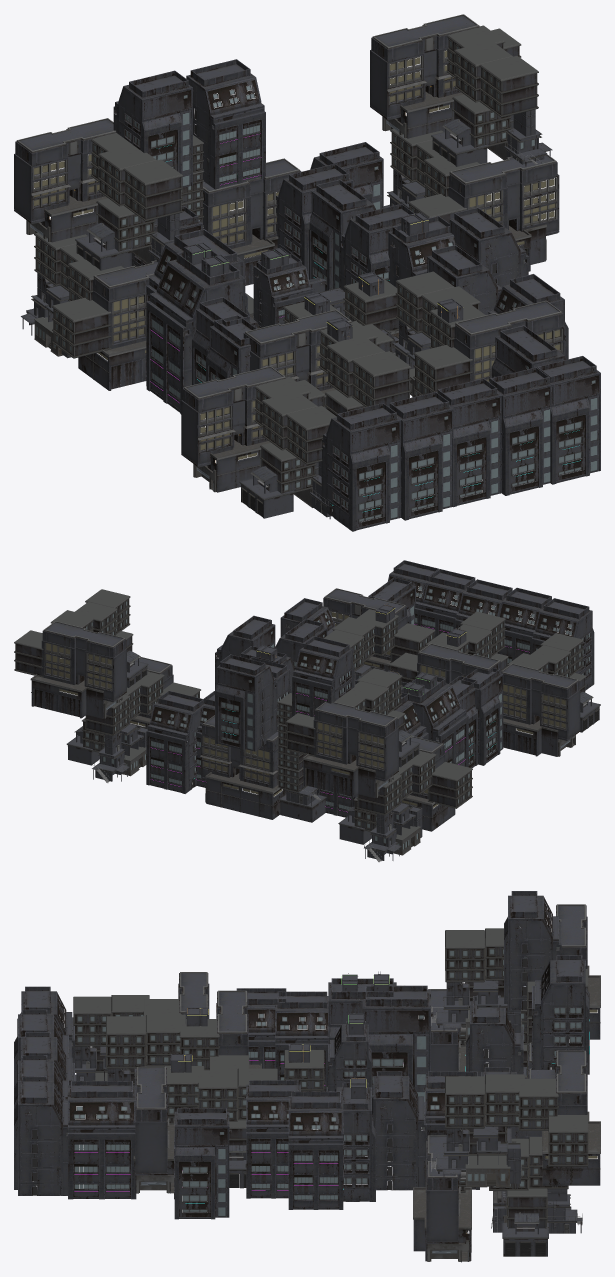
The picture shows the model from 3 angles, top to bottom: view 1: azimuth 30°, elevation 25°; view 2: azimuth 150°, elevation 25°; view 3: azimuth 270°, elevation 25°; orthographic projection. The views are drawn at different scales.
Parts seen in each view (by area): view 1: SM_House144, SM_House74, SM_House102, SM_House123, SM_House115, SM_House34, SM_House60, SM_House145, SM_House109, SM_House147, SM_House148, SM_House88 (+47 smaller); view 2: SM_House74, SM_House102, SM_House123, SM_House12, SM_House115, SM_House33, SM_House109, SM_House34, SM_House144, SM_House143, SM_House147, SM_House145 (+53 smaller); view 3: SM_House149, SM_House151, SM_House152, SM_House148, SM_House140, SM_House150, SM_House115, SM_House32, SM_House60, SM_House109, SM_House25, SM_House74 (+48 smaller).
Part boxes in pixels (x1,y1,x2,y2): SM_House144: [321, 403, 400, 531]; SM_House74: [370, 14, 479, 141]; SM_House102: [14, 118, 116, 245]; SM_House123: [181, 366, 286, 492]; SM_House115: [186, 59, 265, 189]; SM_House34: [146, 250, 249, 414]; SM_House60: [448, 154, 559, 278]; SM_House145: [388, 392, 453, 520]; SM_House109: [113, 70, 192, 189]; SM_House147: [482, 367, 554, 495]; SM_House148: [537, 356, 600, 484]; SM_House88: [78, 260, 162, 390]; SM_House74: [30, 621, 127, 718]; SM_House102: [302, 701, 399, 798]; SM_House123: [502, 663, 580, 756]; SM_House12: [200, 715, 286, 819]; SM_House115: [215, 654, 277, 751]; SM_House33: [146, 690, 205, 793]; SM_House109: [292, 636, 354, 731]; SM_House34: [401, 676, 468, 767]; SM_House144: [532, 598, 594, 690]; SM_House143: [461, 668, 503, 765]; SM_House147: [417, 569, 479, 637]; SM_House145: [497, 587, 556, 663]; SM_House149: [65, 1081, 136, 1199]; SM_House151: [286, 1091, 343, 1209]; SM_House152: [174, 1108, 231, 1219]; SM_House148: [14, 1076, 68, 1195]; SM_House140: [372, 1071, 426, 1190]; SM_House150: [362, 985, 433, 1104]; SM_House115: [532, 955, 589, 1074]; SM_House32: [244, 1080, 301, 1198]; SM_House60: [413, 1135, 471, 1262]; SM_House109: [504, 891, 561, 1010]; SM_House25: [122, 1066, 174, 1193]; SM_House74: [542, 1050, 600, 1185].
Size of the model in its own units: 120 by 53.01 by 126.
